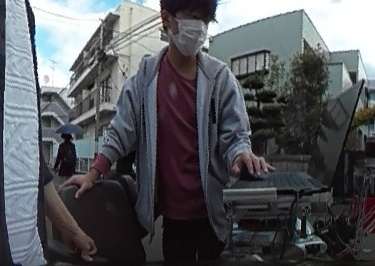person: (130, 0, 256, 266), (53, 130, 76, 180)
